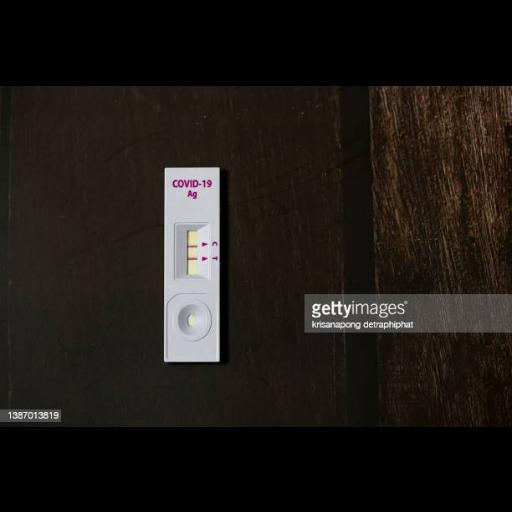Pos: (164, 166, 218, 360)
